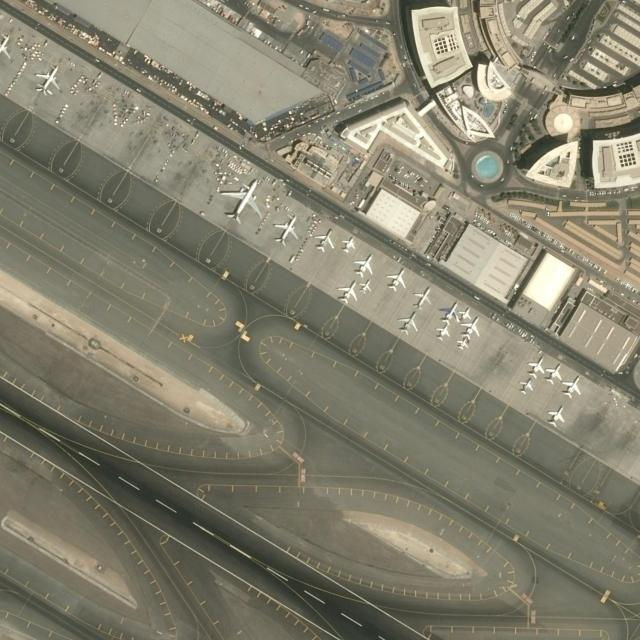Aircraft: (217, 177, 263, 225), (29, 62, 65, 96), (269, 215, 303, 246), (312, 224, 336, 254), (384, 267, 406, 292), (411, 285, 433, 310), (336, 280, 358, 304), (398, 310, 420, 334), (561, 375, 583, 399), (353, 254, 375, 277), (462, 315, 484, 337), (440, 300, 460, 322), (542, 363, 562, 385), (546, 405, 566, 427), (524, 355, 544, 376), (336, 235, 356, 255), (433, 321, 451, 341), (0, 33, 12, 60), (455, 336, 471, 352), (457, 306, 475, 320), (518, 377, 532, 395), (357, 277, 371, 293)
